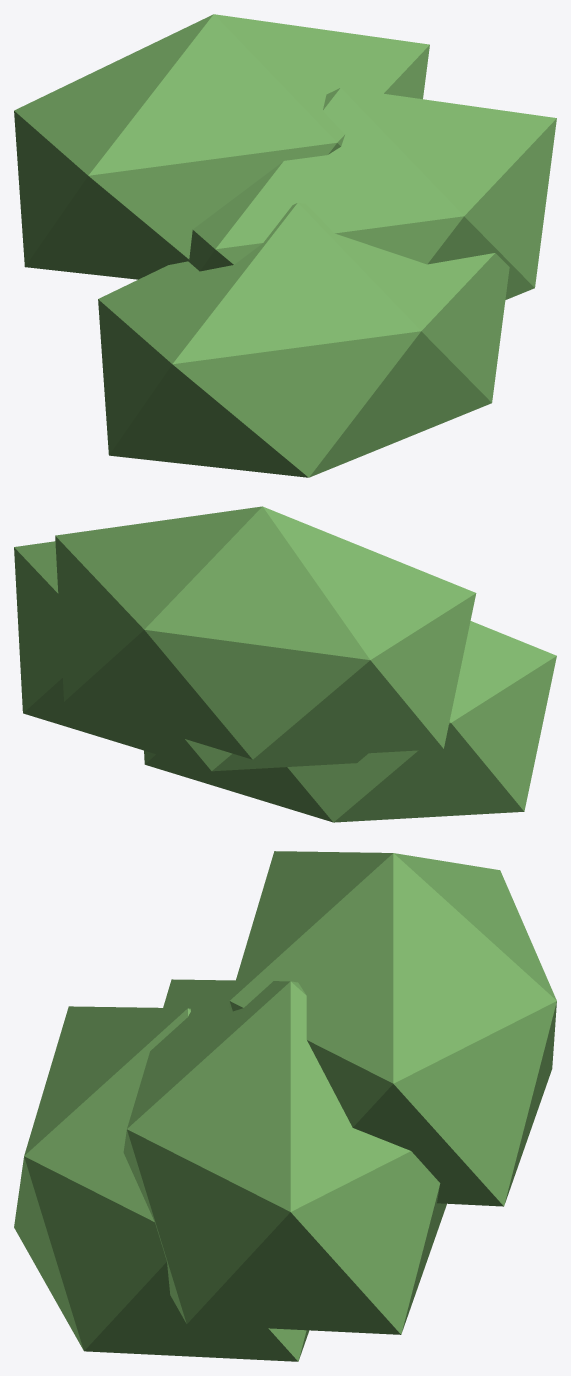
The model's file is item_065_pea_m.glb.
3 renders of one model, top to bottom at view 1: azimuth 30°, elevation 25°; view 2: azimuth 150°, elevation 25°; view 3: azimuth 270°, elevation 25°, orthographic. The views are drawn at different scales.
Visible parts, largest first — view 1: item_065_pea_m; view 2: item_065_pea_m; view 3: item_065_pea_m.
Part boxes in pixels (x1=…): item_065_pea_m: x1=14, y1=14, x2=556, y2=477; item_065_pea_m: x1=14, y1=506, x2=556, y2=822; item_065_pea_m: x1=14, y1=851, x2=556, y2=1361.
Size of the model in its own units: 0.404 by 0.3075 by 0.3169.
